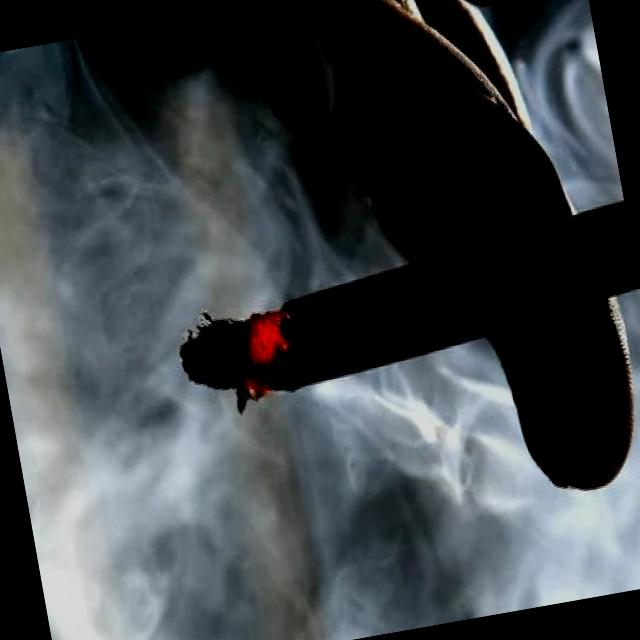cigarette: (159, 194, 640, 427)
